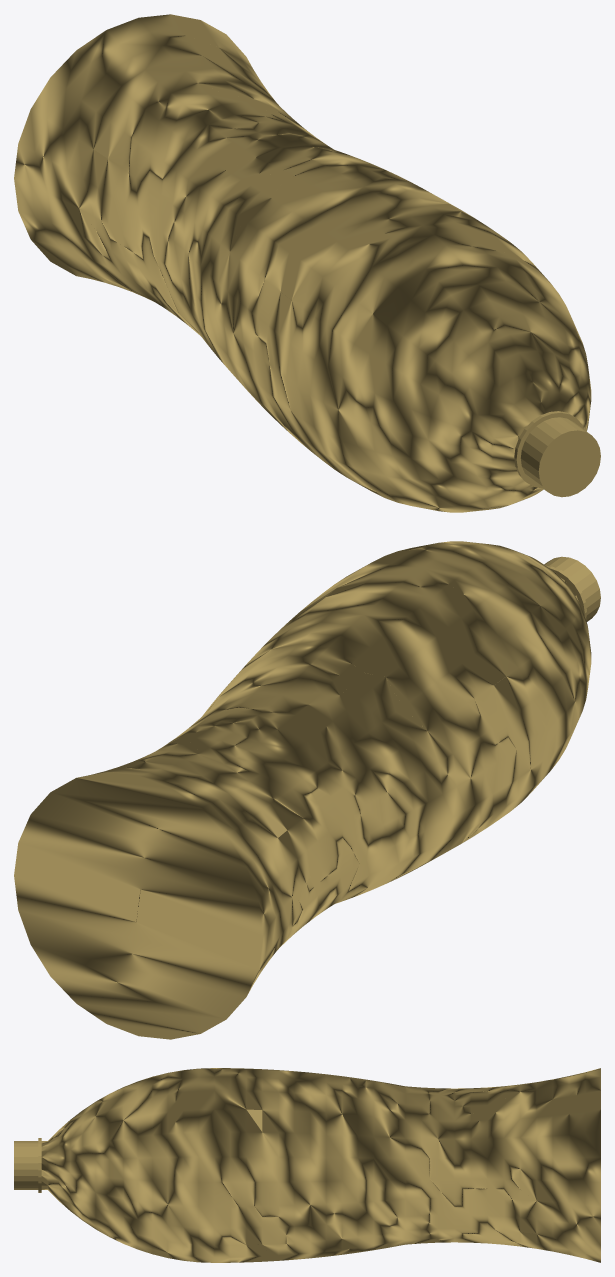
The model's file is model_align.obj.
The picture shows the model from 3 angles, top to bottom: view 1: azimuth 30°, elevation 25°; view 2: azimuth 150°, elevation 25°; view 3: azimuth 270°, elevation 25°; orthographic projection. The views are drawn at different scales.
Bounding box in the file's own units: 0.0782 × 0.0782 × 0.2346.
